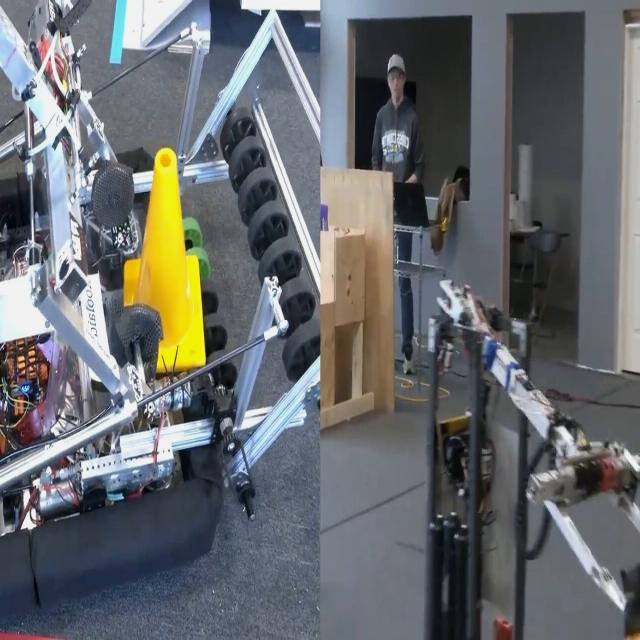frc_cone: (122, 143, 205, 371)
frc_cube: (318, 203, 333, 240)
